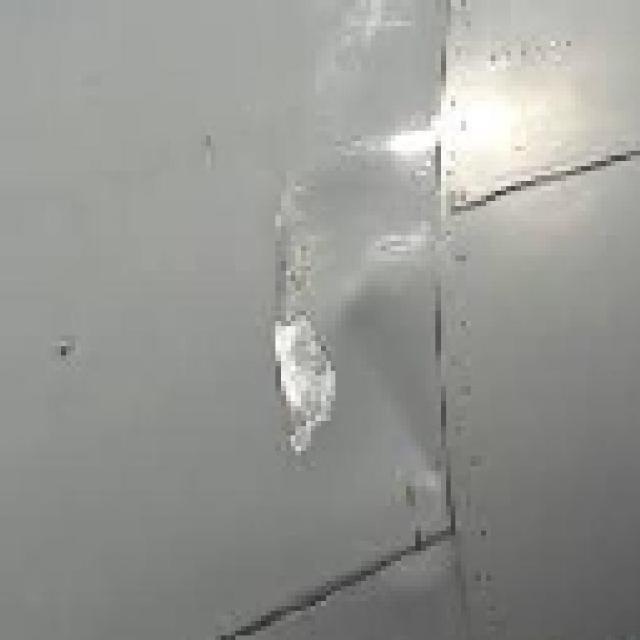dent: (338, 258, 444, 513), (306, 149, 423, 312), (323, 20, 441, 157)
